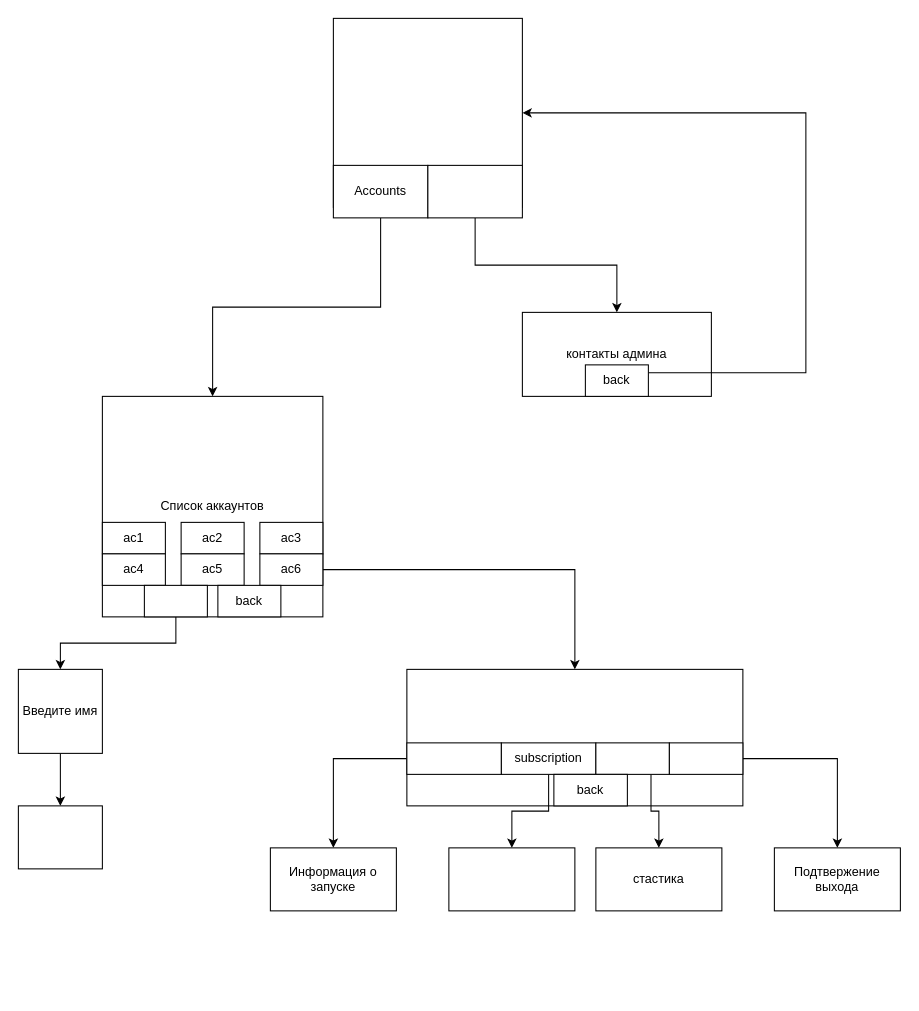
This 919x1011 diagram has some shape labels left out. Here are the shapes that lost their labels. From the top down, the box of each, then its label:
(332, 17, 522, 207): Меню аккаунтов (Описание текстом)
(427, 164, 522, 218): Help
(143, 584, 207, 617): add
(406, 668, 743, 806): меню аккаунта
(406, 742, 501, 774): start или stop
(595, 742, 669, 774): statistics
(668, 742, 743, 774): logout
(17, 805, 102, 869): Введите пароль
(448, 847, 575, 911): информация о подписке
